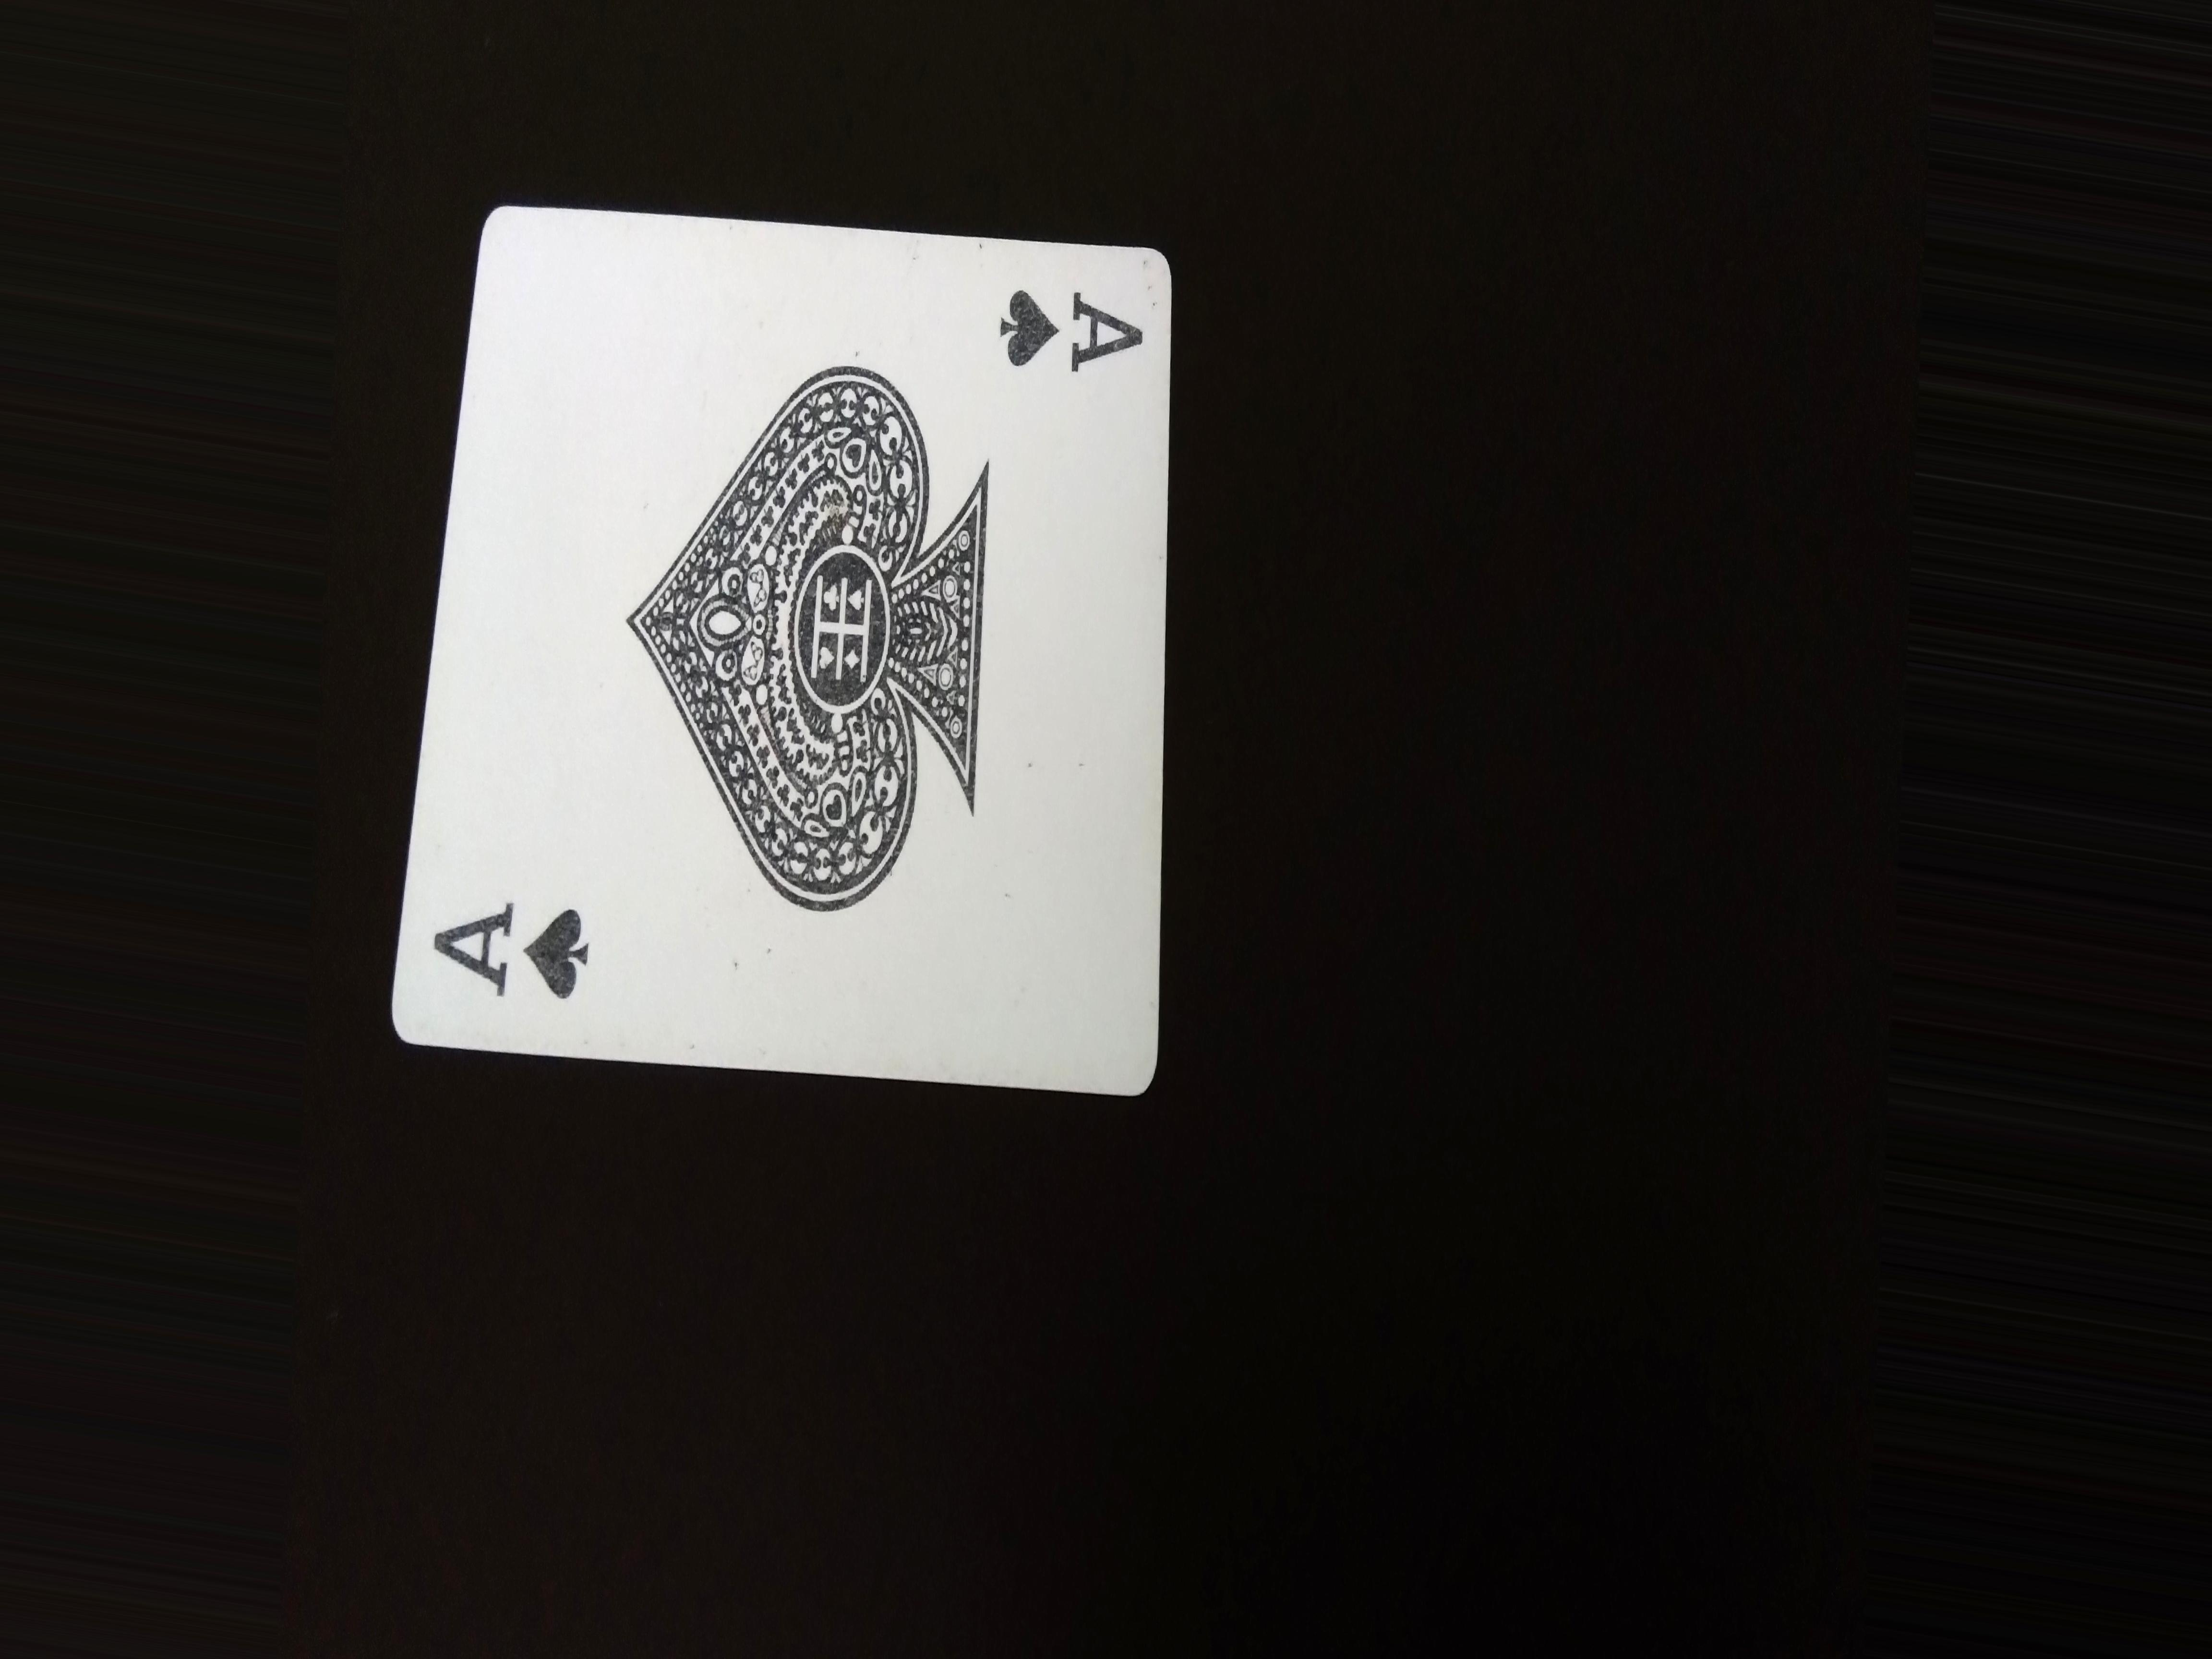AS: (993, 260, 1172, 430)
